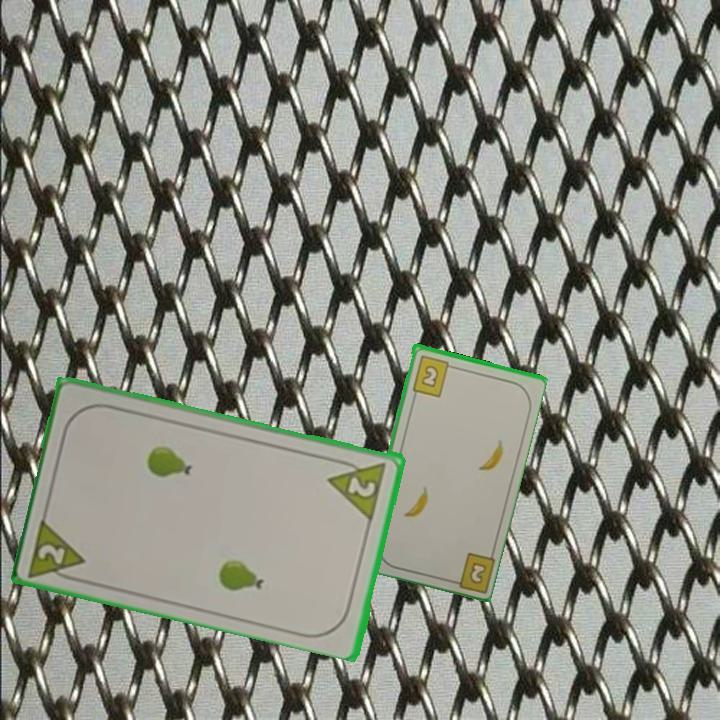2b: (408, 351, 457, 399), (445, 548, 496, 593)
2p: (25, 513, 89, 586), (325, 454, 390, 521)
